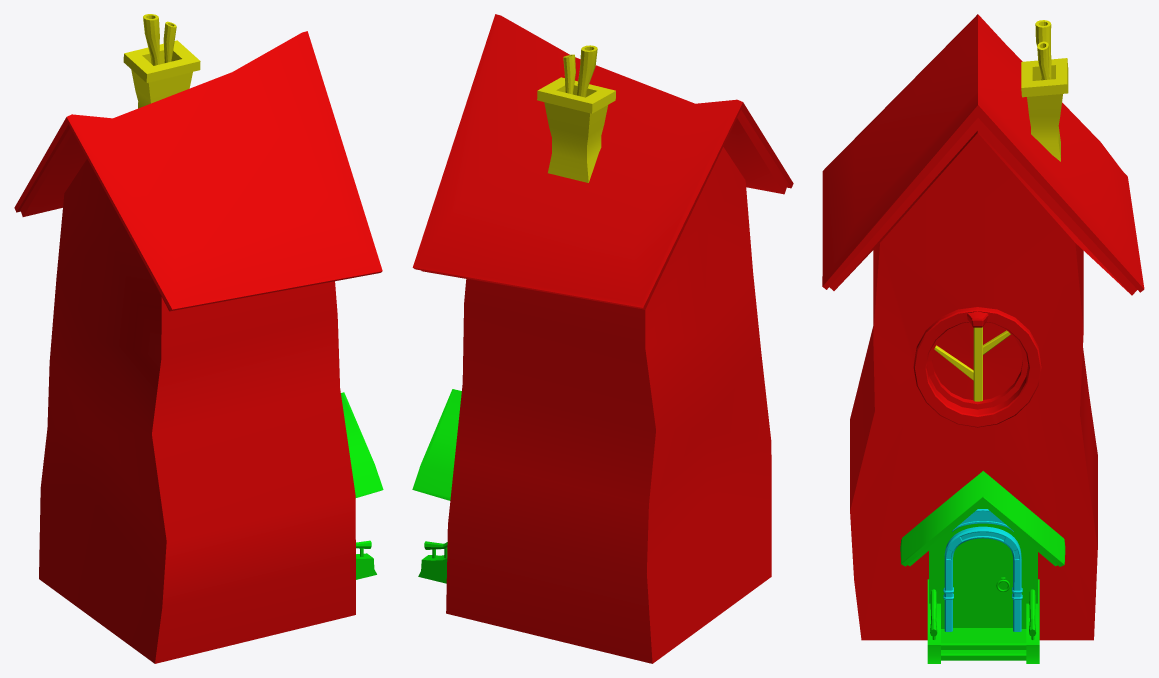
Rendered from Windmill_UVED.fbx.
3 views of the same model, side by side, from view 1: azimuth 30°, elevation 25°; view 2: azimuth 150°, elevation 25°; view 3: azimuth 270°, elevation 25° (orthographic). The views are drawn at different scales.
Visible parts, largest first — view 1: polySurface708; view 2: polySurface708; view 3: polySurface708.
Part boxes in pixels (left/top/right/bottom): polySurface708: left=14, top=14, right=383, bottom=663; polySurface708: left=412, top=14, right=793, bottom=663; polySurface708: left=822, top=14, right=1144, bottom=663.
Size of the model in its own units: 279 by 522 by 272.
